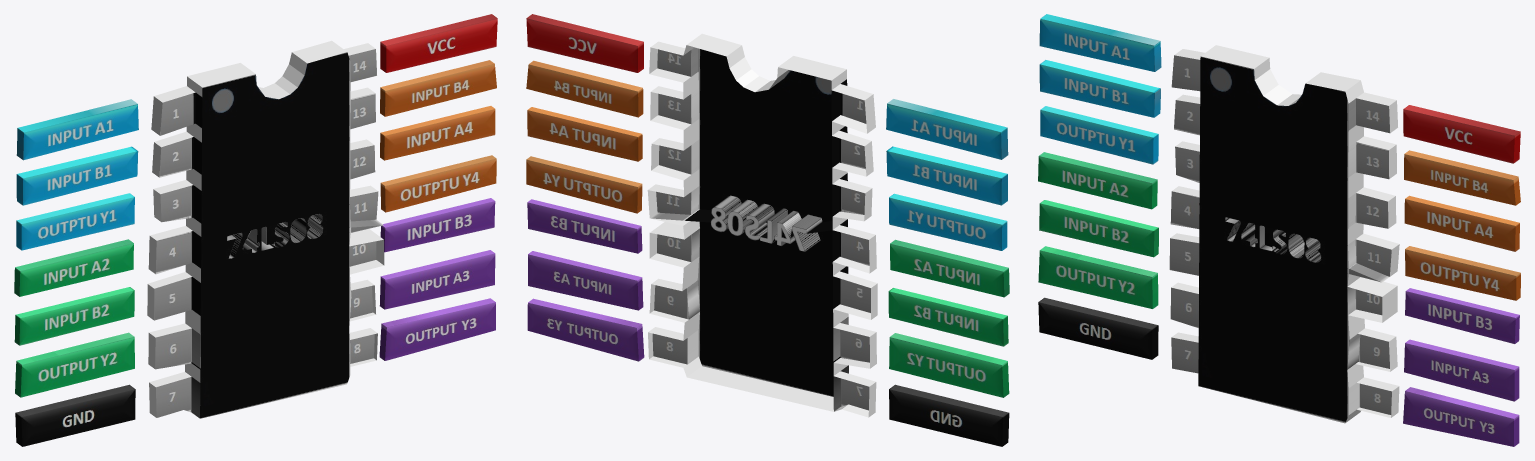
File: icdef3.glb
The picture shows the model from 3 angles, left to right: view 1: azimuth 30°, elevation 25°; view 2: azimuth 150°, elevation 25°; view 3: azimuth 330°, elevation 25°; orthographic projection.
Visible parts, largest first — view 1: IMG-20231024-WA0023; view 2: IMG-20231024-WA0023; view 3: IMG-20231024-WA0023.
Boxes of the visible parts, x1,y1,x2,y2 form: IMG-20231024-WA0023: (14, 14, 497, 446); IMG-20231024-WA0023: (526, 14, 1009, 446); IMG-20231024-WA0023: (1038, 14, 1520, 446).
Bounding box in the file's own units: 1.42 × 0.9434 × 0.0797.
Materials: 1 (1 with a texture image).
